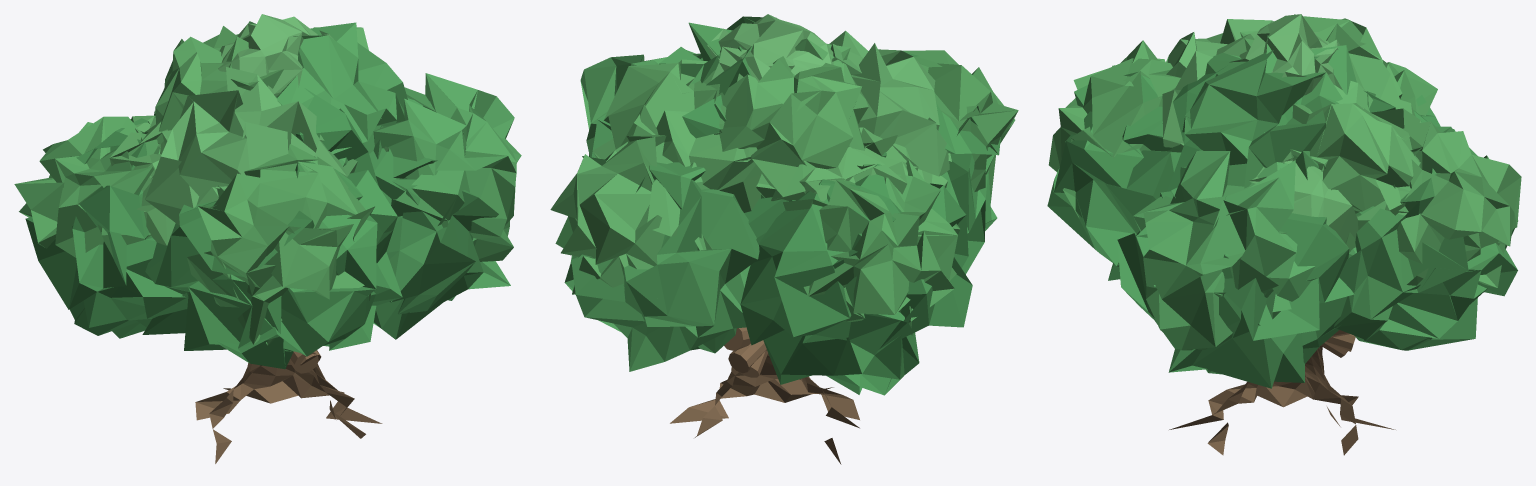
File: ancient_tree.glb
3 views of the same model, side by side, from view 1: azimuth 30°, elevation 25°; view 2: azimuth 150°, elevation 25°; view 3: azimuth 270°, elevation 25° (orthographic).
Parts seen in each view (by area): view 1: AncientTreeModel; view 2: AncientTreeModel; view 3: AncientTreeModel.
Boxes of the visible parts, x1,y1,x2,y2 form: AncientTreeModel: (14,14,521,463); AncientTreeModel: (550,14,1018,464); AncientTreeModel: (1047,14,1521,455).
Bounding box in the file's own units: 19.69 × 18.31 × 19.09.
